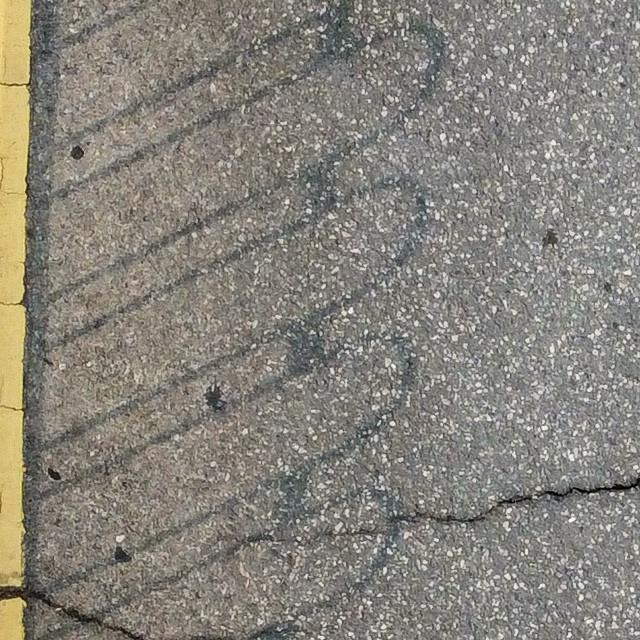TransverseCrack: (425, 474, 640, 525), (1, 587, 143, 640)
